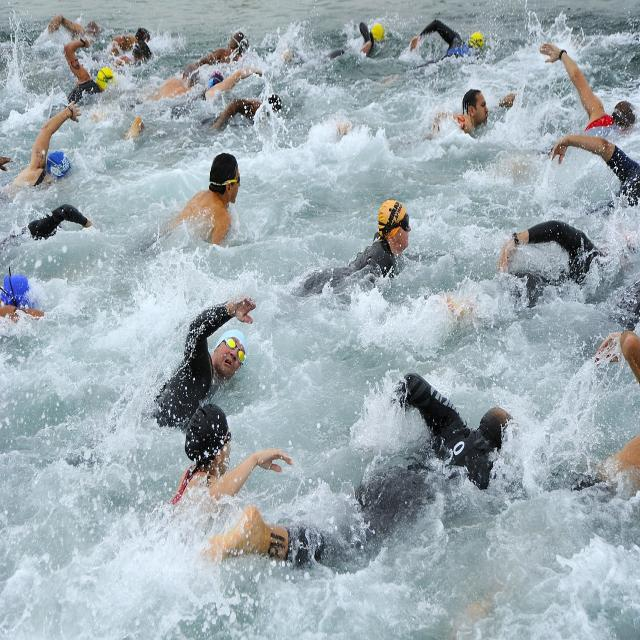swimming: (105, 282, 271, 447), (325, 188, 431, 344), (438, 384, 534, 515), (159, 150, 255, 274), (11, 100, 85, 212), (422, 11, 493, 94), (457, 84, 518, 178), (348, 0, 393, 73)
